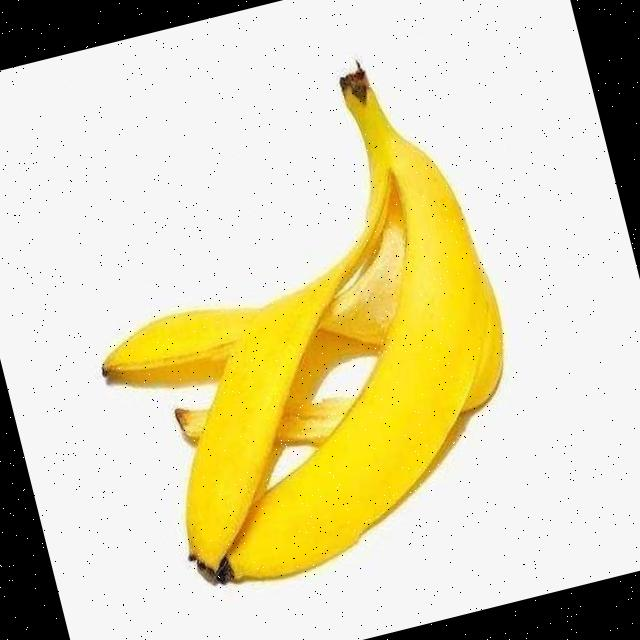banana-peel: (42, 39, 550, 608)
